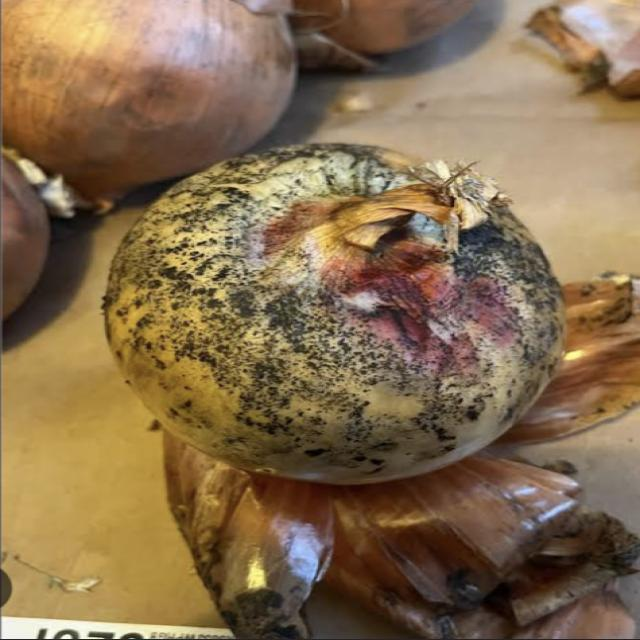mechanical_damage: (104, 144, 565, 483)
